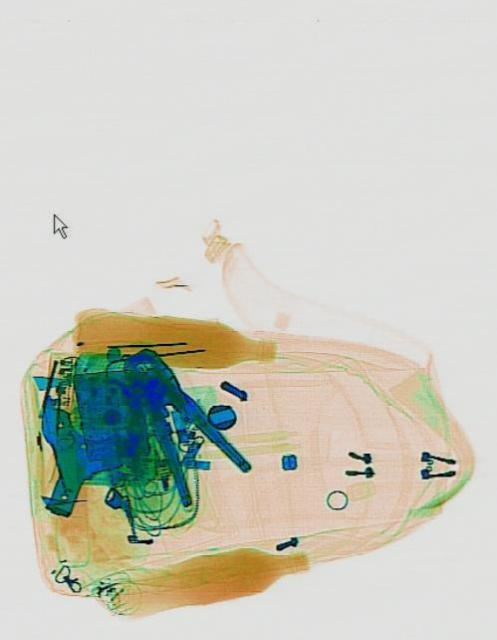Pliers: (101, 326, 250, 520)
